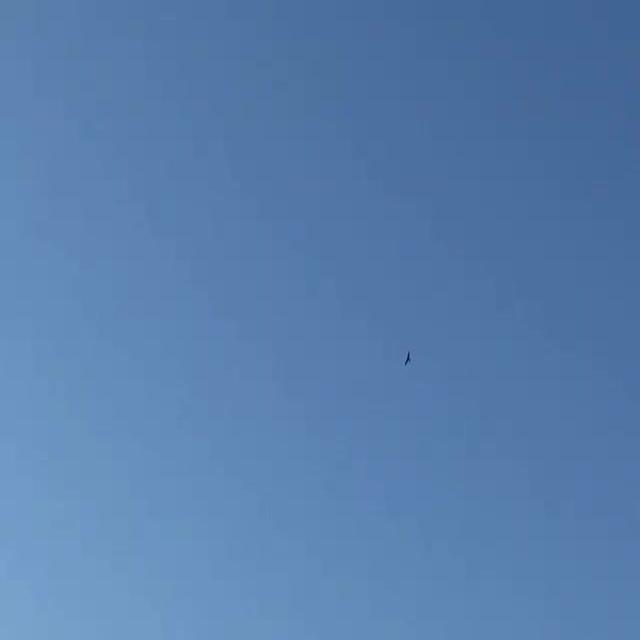bird: (399, 346, 417, 365)
